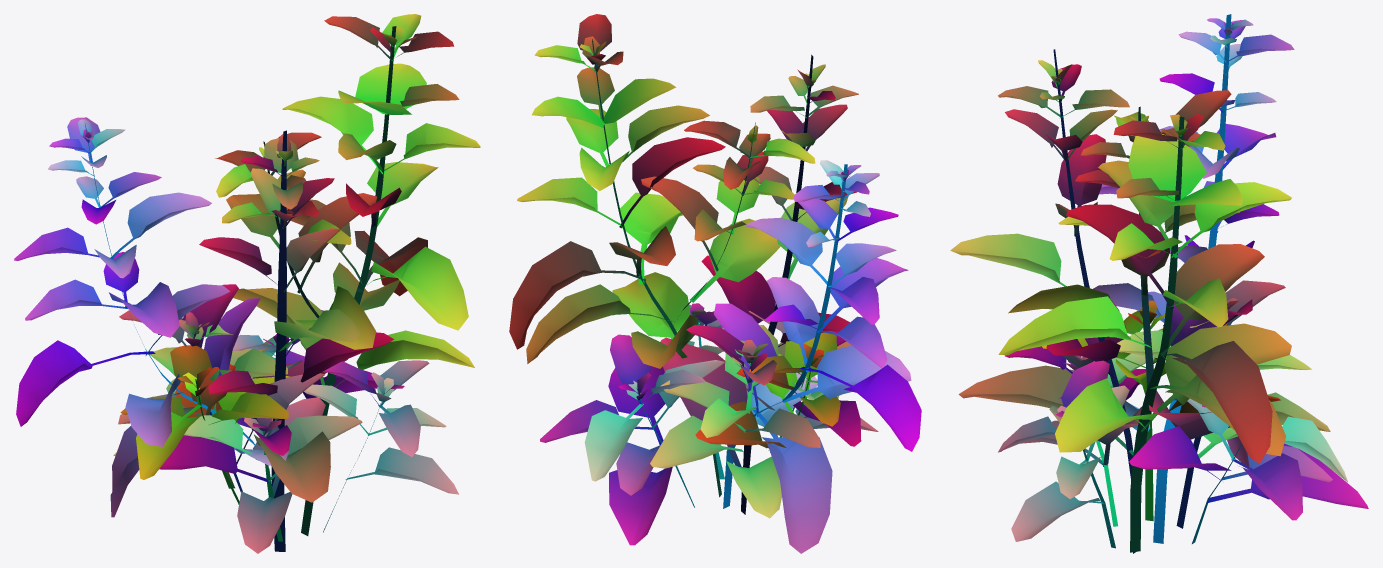
File: Lemon_Balm_umslacdia_Mid_umslacdia_VarA_LOD2.fbx
The picture shows the model from 3 angles, left to right: view 1: azimuth 30°, elevation 25°; view 2: azimuth 150°, elevation 25°; view 3: azimuth 270°, elevation 25°; orthographic projection. The views are drawn at different scales.
Visible parts, largest first — view 1: _o2xj_VarA_LOD4; view 2: _o2xj_VarA_LOD4; view 3: _o2xj_VarA_LOD4.
Part boxes in pixels (x1,y1,x2,y2): _o2xj_VarA_LOD4: (14,14,480,553); _o2xj_VarA_LOD4: (509,14,921,553); _o2xj_VarA_LOD4: (950,14,1368,553).
Bounding box in the file's own units: 69.04 × 76.01 × 56.8.
